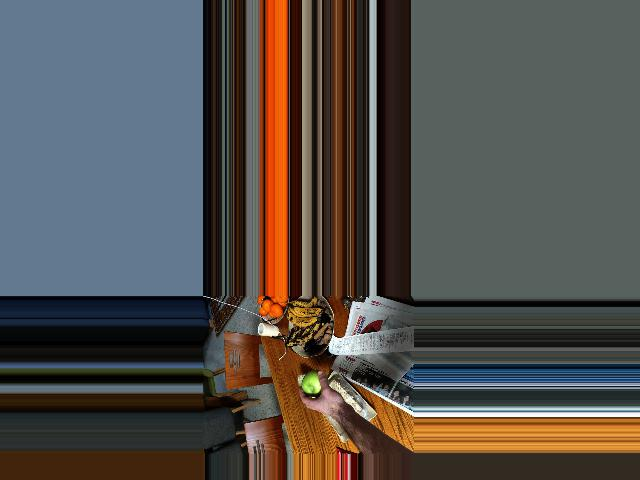apple: (300, 371, 325, 403)
